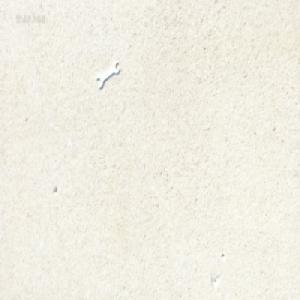Wrench: (96, 61, 119, 90)
